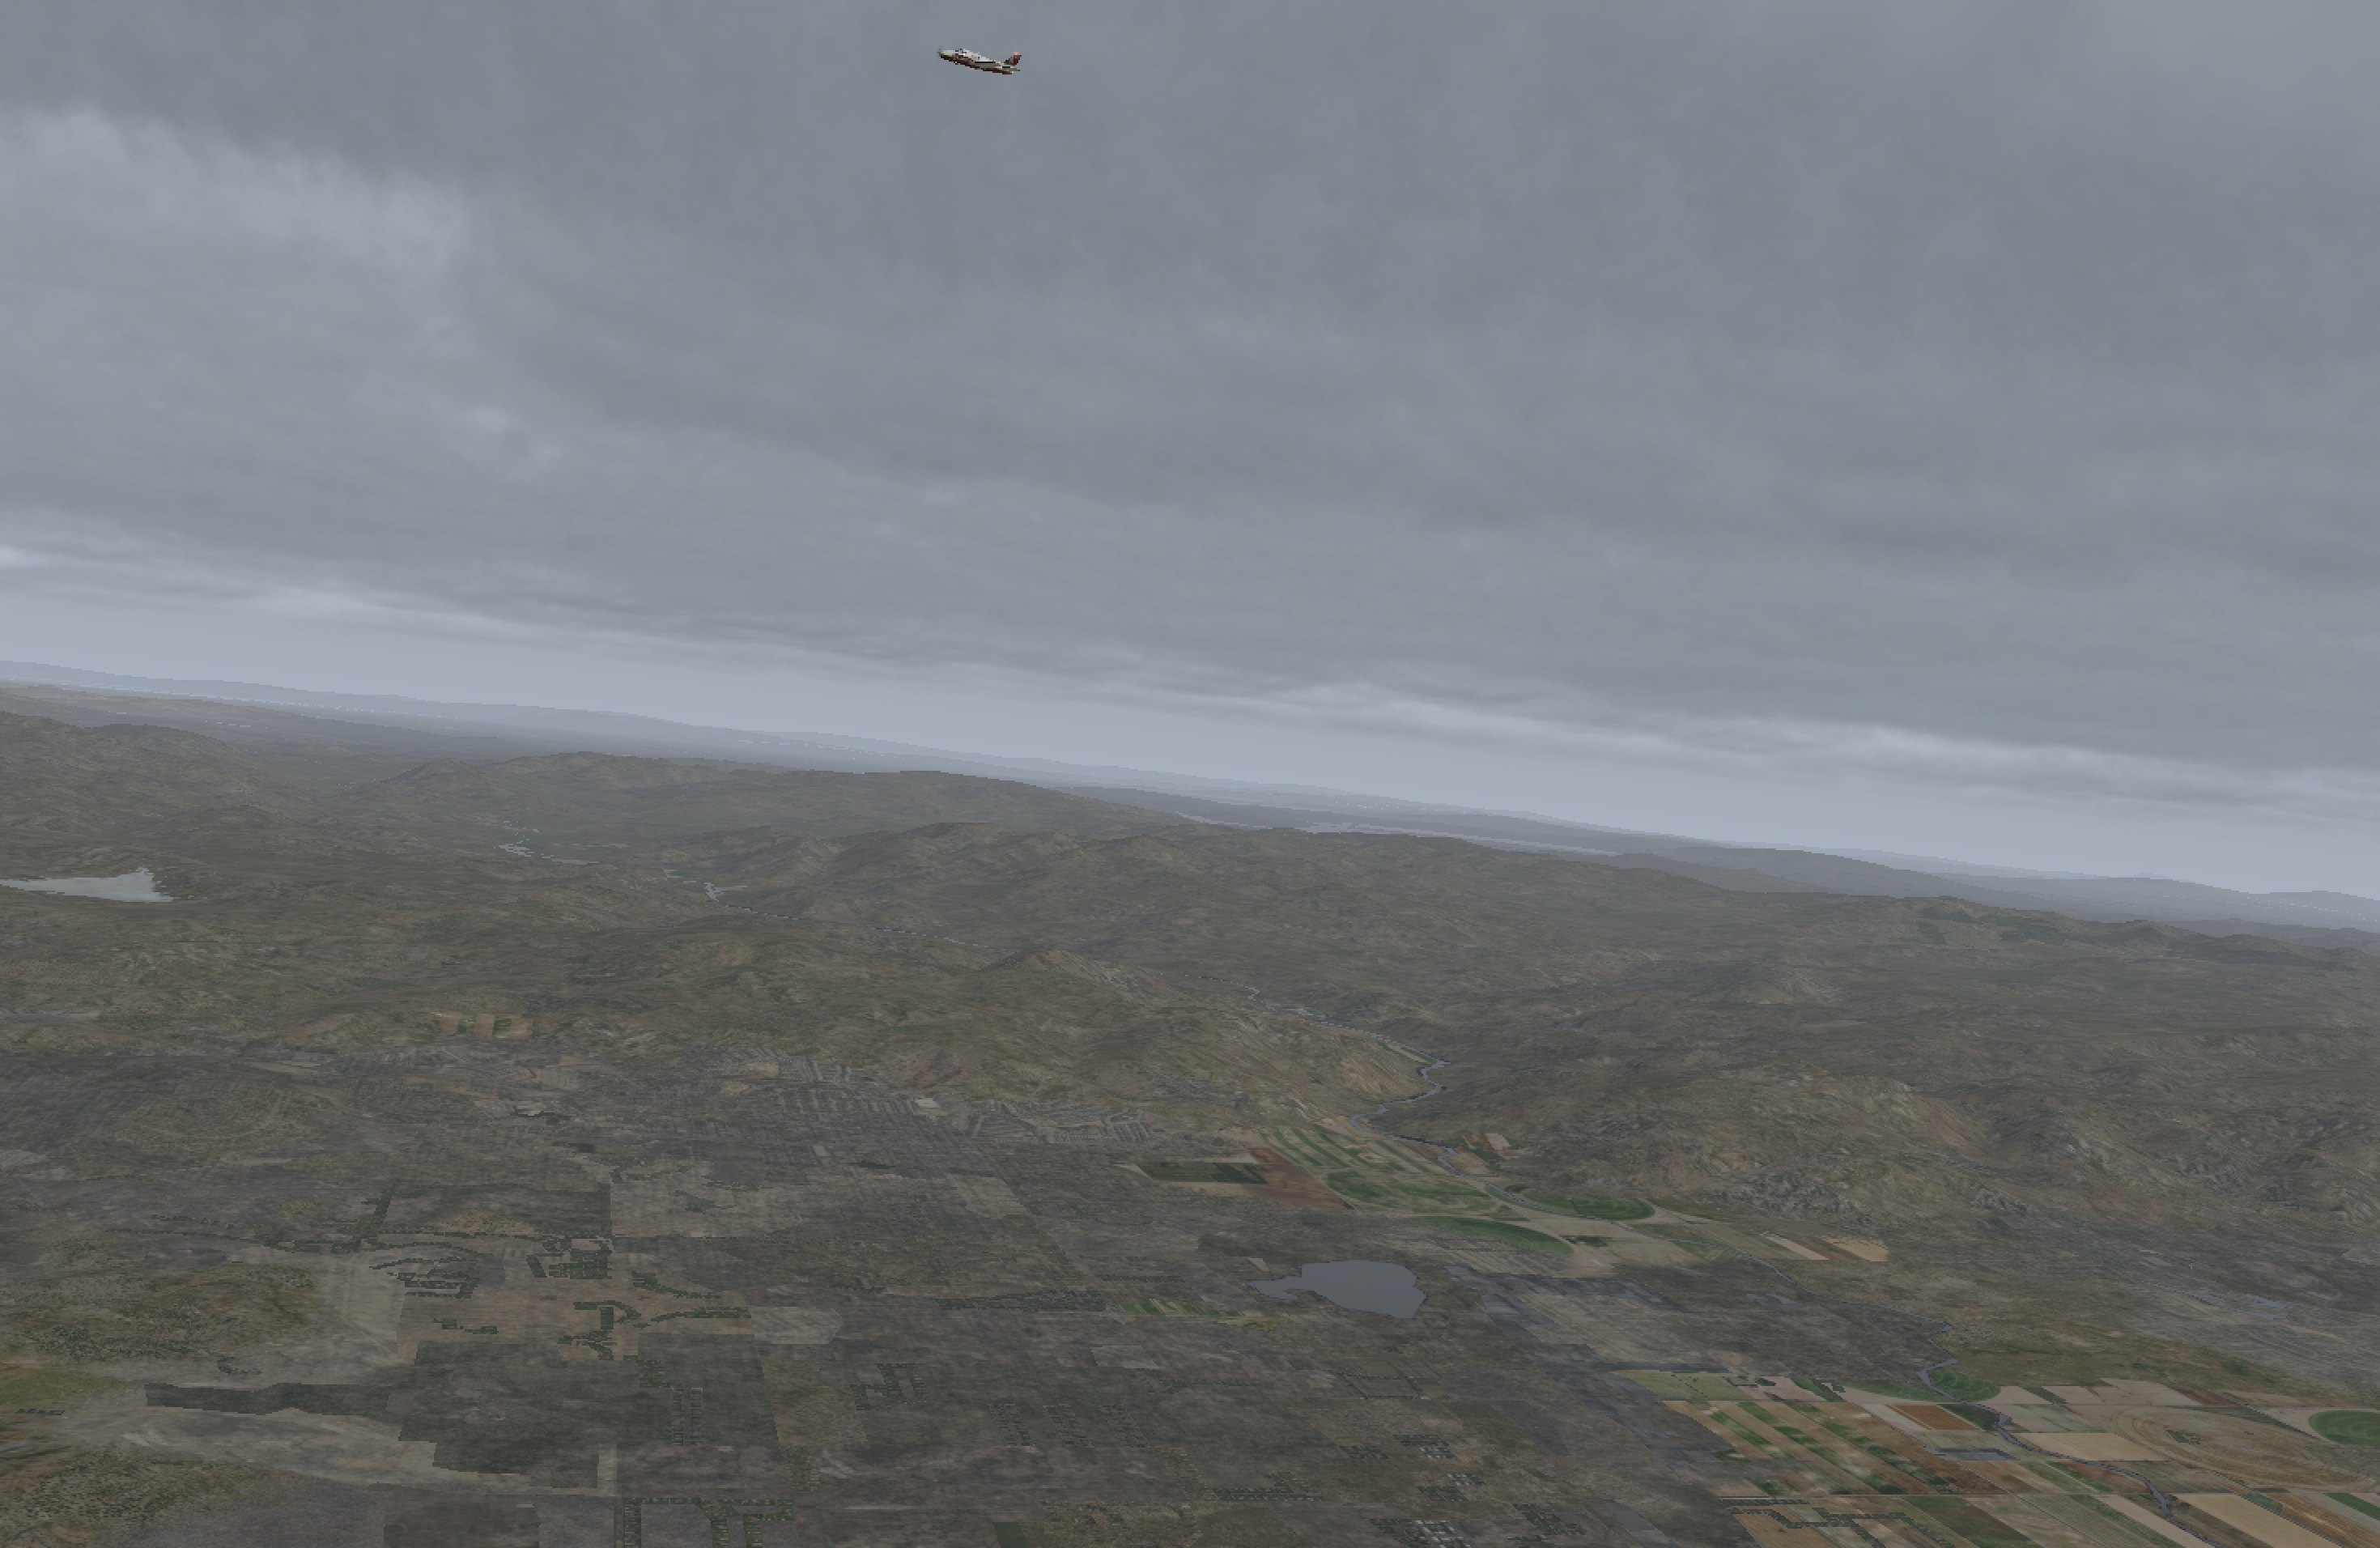aircraft: (904, 42, 1023, 87)
